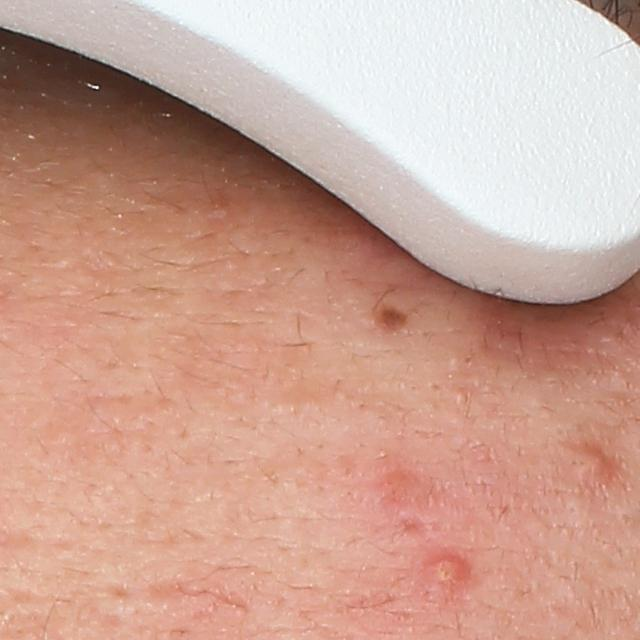atrophic_scar: (144, 579, 251, 610)
nevus: (369, 293, 422, 345)
papule: (377, 461, 437, 503), (562, 442, 617, 481)
pustule: (419, 540, 473, 601)
